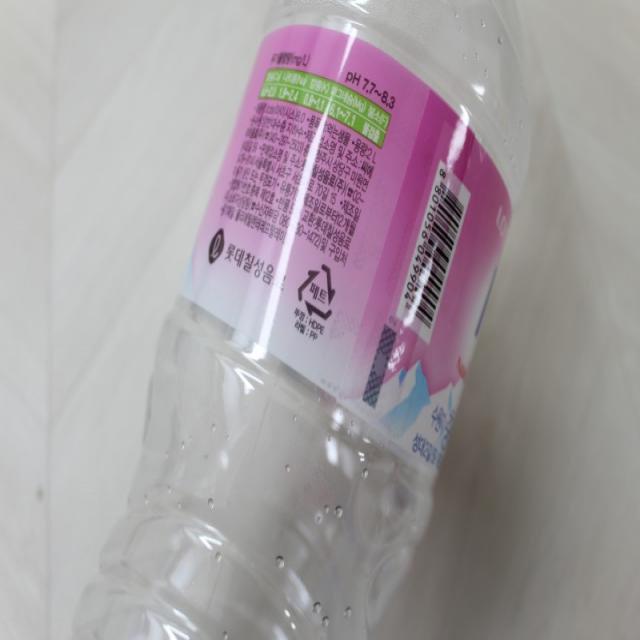PET: (296, 262, 336, 320)
